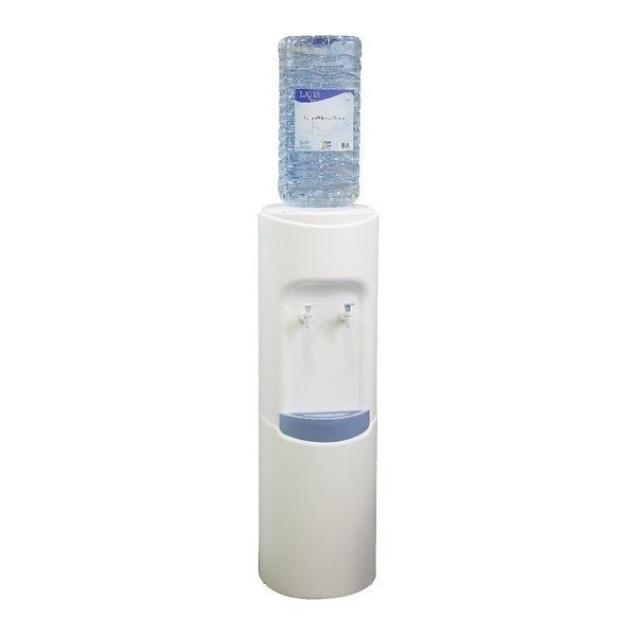Dispenser: (257, 35, 377, 598)
